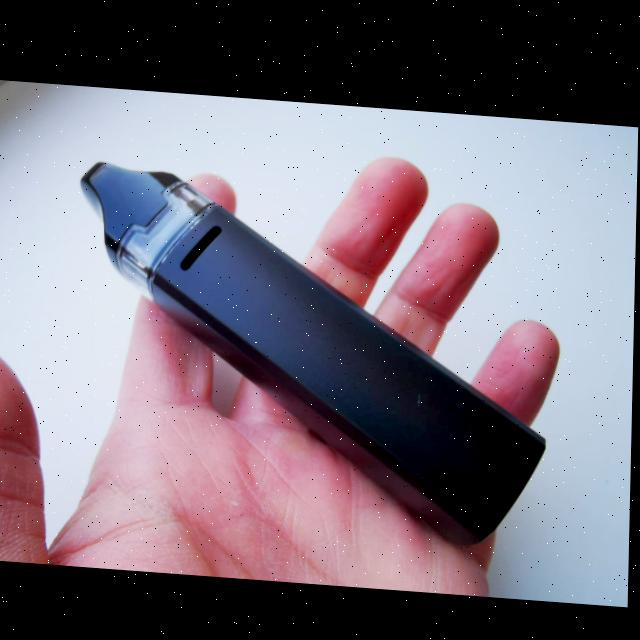vape: (74, 159, 554, 550)
